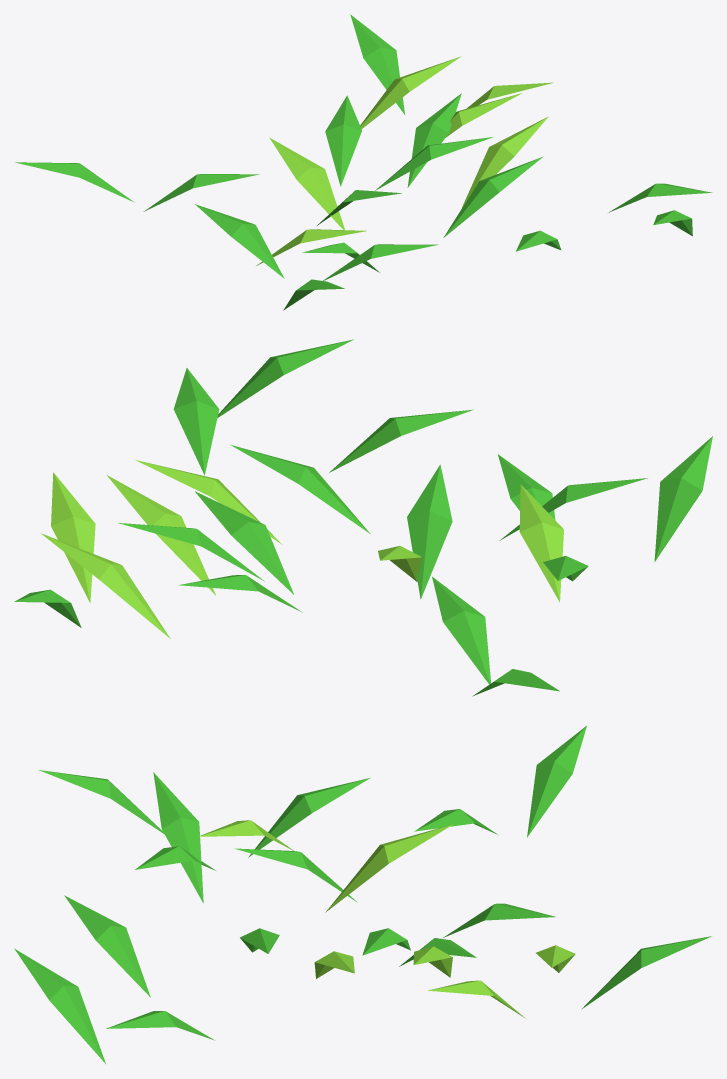
The model's file is grass_patch_flat.fbx.
3 renders of one model, top to bottom at view 1: azimuth 30°, elevation 25°; view 2: azimuth 150°, elevation 25°; view 3: azimuth 270°, elevation 25°, orthographic. The views are drawn at different scales.
Parts seen in each view (by area): view 1: grass_patch_flat; view 2: grass_patch_flat; view 3: grass_patch_flat.
Part boxes in pixels (x1=…): grass_patch_flat: x1=15, y1=14, x2=712, y2=310; grass_patch_flat: x1=14, y1=339, x2=712, y2=696; grass_patch_flat: x1=14, y1=726, x2=711, y2=1063.
Size of the model in its own units: 2.5 by 0.3 by 2.5.
